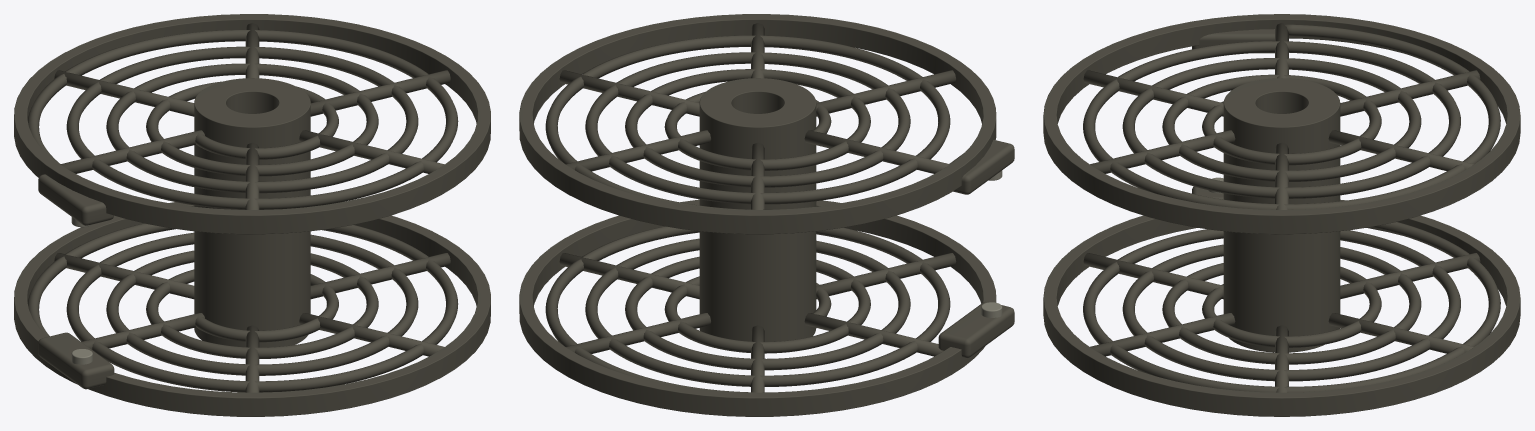
Rendered from C02_FilmReel.fbx.
3 views of the same model, side by side, from view 1: azimuth 30°, elevation 25°; view 2: azimuth 150°, elevation 25°; view 3: azimuth 270°, elevation 25° (orthographic).
Parts seen in each view (by area): view 1: UpperDisc_Mesh, LowerDisc_Mesh, CenterAxis_Mesh; view 2: UpperDisc_Mesh, LowerDisc_Mesh, CenterAxis_Mesh; view 3: UpperDisc_Mesh, LowerDisc_Mesh, CenterAxis_Mesh.
Part boxes in pixels (bbox=[...]): UpperDisc_Mesh: bbox=[14, 14, 490, 234]; LowerDisc_Mesh: bbox=[14, 202, 490, 416]; CenterAxis_Mesh: bbox=[194, 78, 310, 347]; UpperDisc_Mesh: bbox=[519, 14, 1014, 234]; LowerDisc_Mesh: bbox=[519, 199, 1014, 416]; CenterAxis_Mesh: bbox=[699, 78, 816, 341]; UpperDisc_Mesh: bbox=[1043, 14, 1520, 234]; LowerDisc_Mesh: bbox=[1043, 186, 1520, 416]; CenterAxis_Mesh: bbox=[1223, 78, 1340, 352].
Size of the model in its own units: 0.0915 by 0.047 by 0.09.
